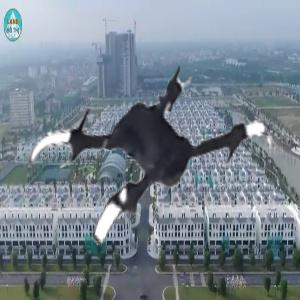drone: (24, 43, 273, 292)
